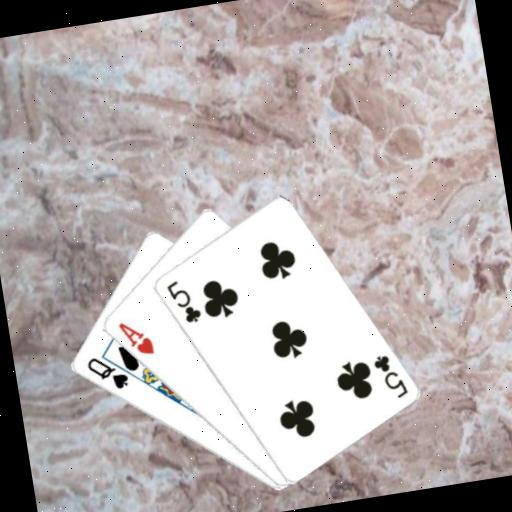5C: (161, 274, 203, 328), (369, 348, 410, 403)
AH: (114, 314, 156, 360)
QS: (82, 349, 131, 395)
